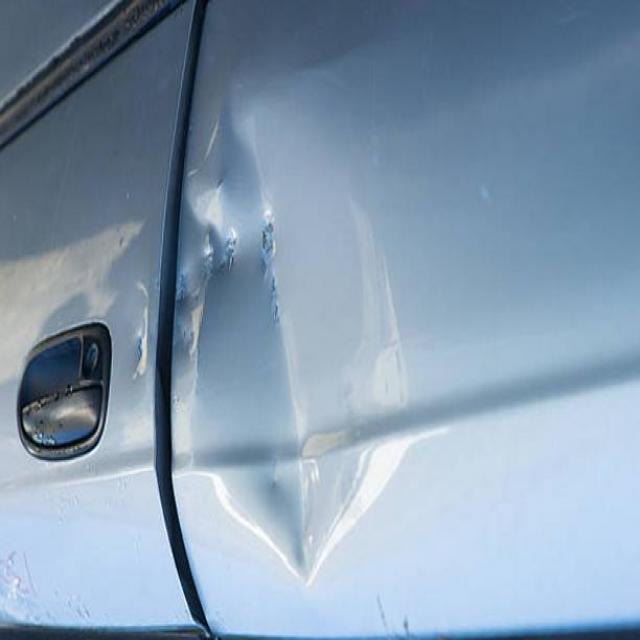dent: (142, 75, 435, 603)
